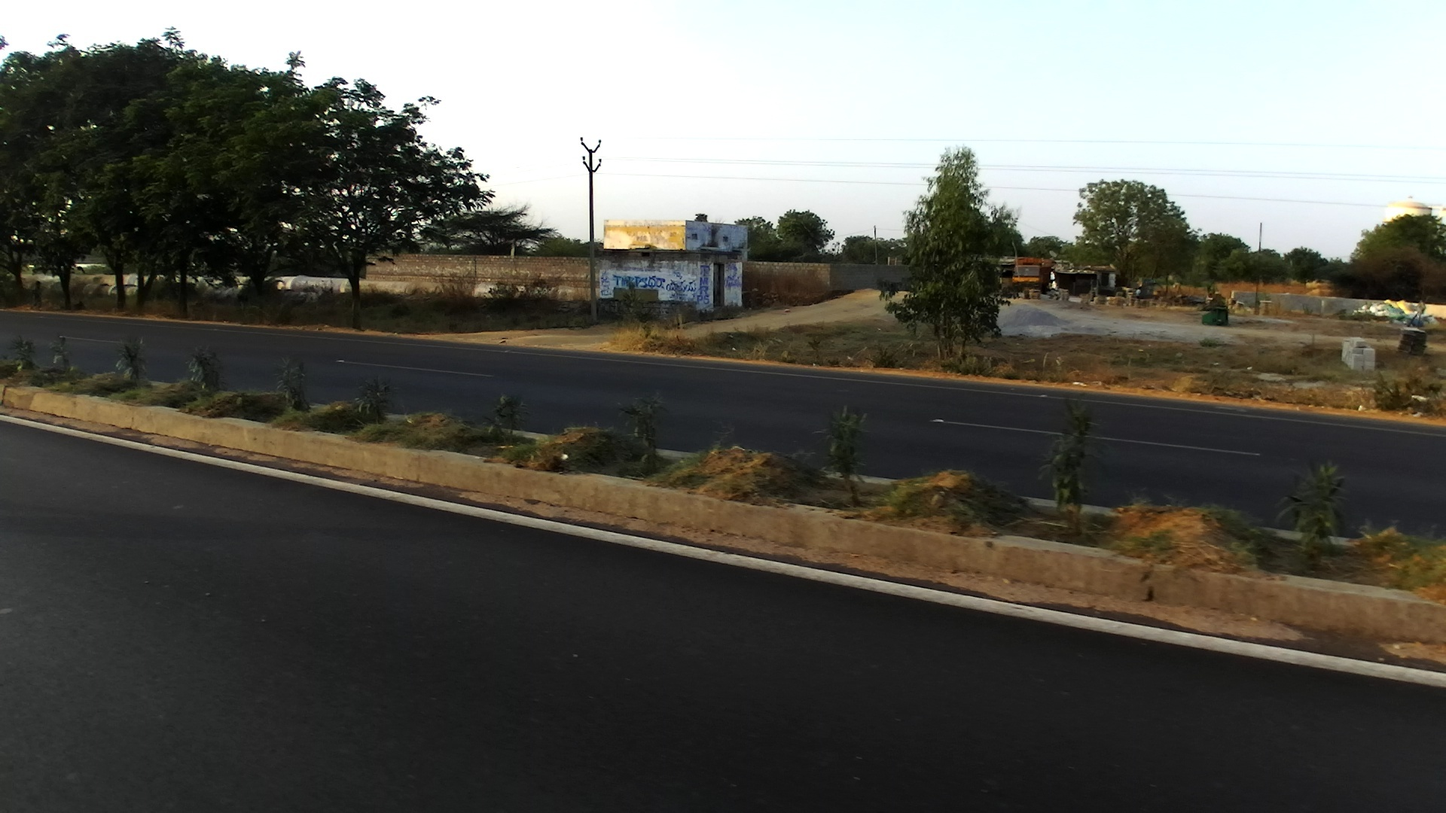truck: (1007, 255, 1058, 305)
